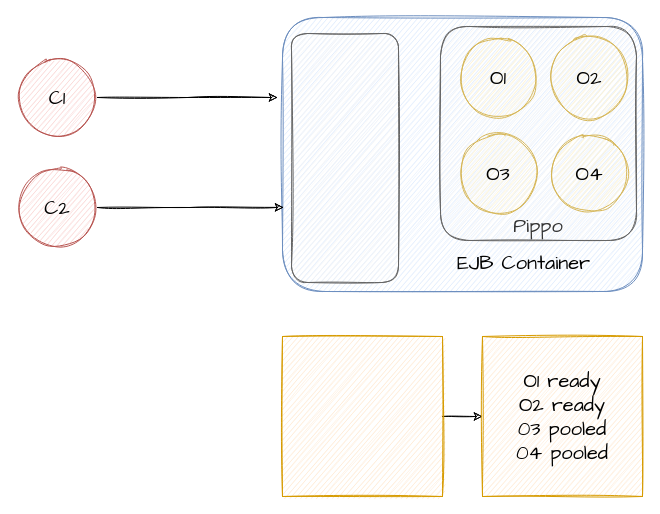
Some shapes in this 660 by 514 pixel diagram are drawn without their labels. Each missing label, with the centre of its shape:
EJB Home EJB Object trasparenti: the point at 344,157
O1 pooled O2 pooled 03 pooled 04 pooled: the point at 362,416
